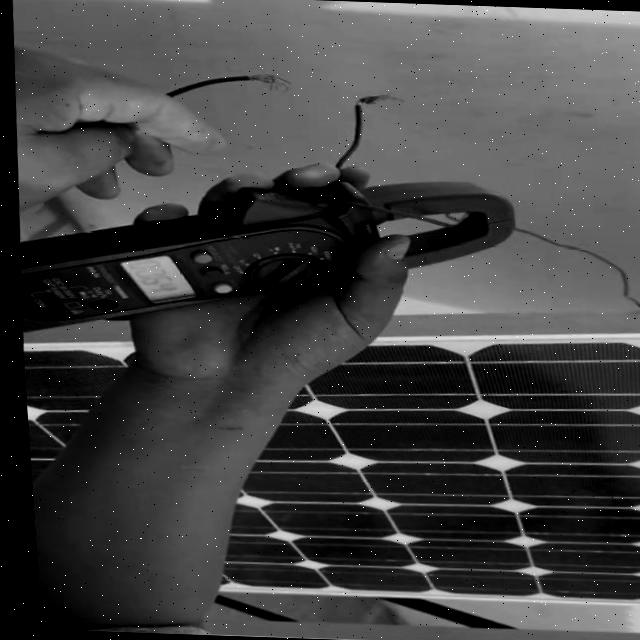Normal Solar Panel: (207, 320, 640, 606), (19, 352, 120, 487)
